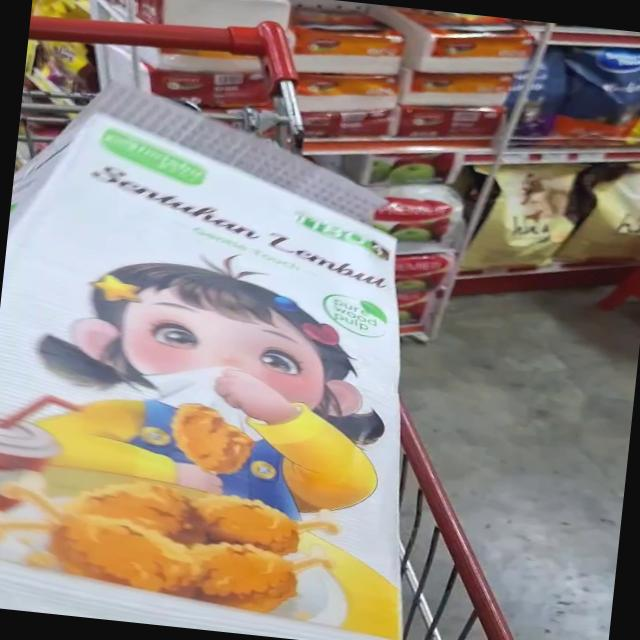Tisu: (6, 80, 458, 443), (0, 333, 452, 640)
